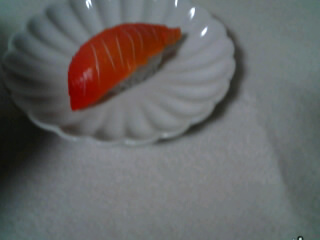002_classes: (65, 18, 180, 116)
